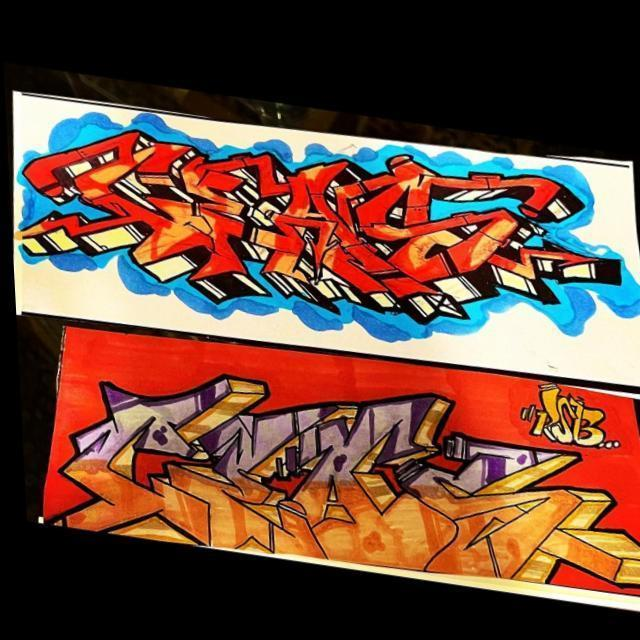nonspitting: (49, 372, 640, 587), (22, 129, 624, 319), (517, 380, 622, 450)
